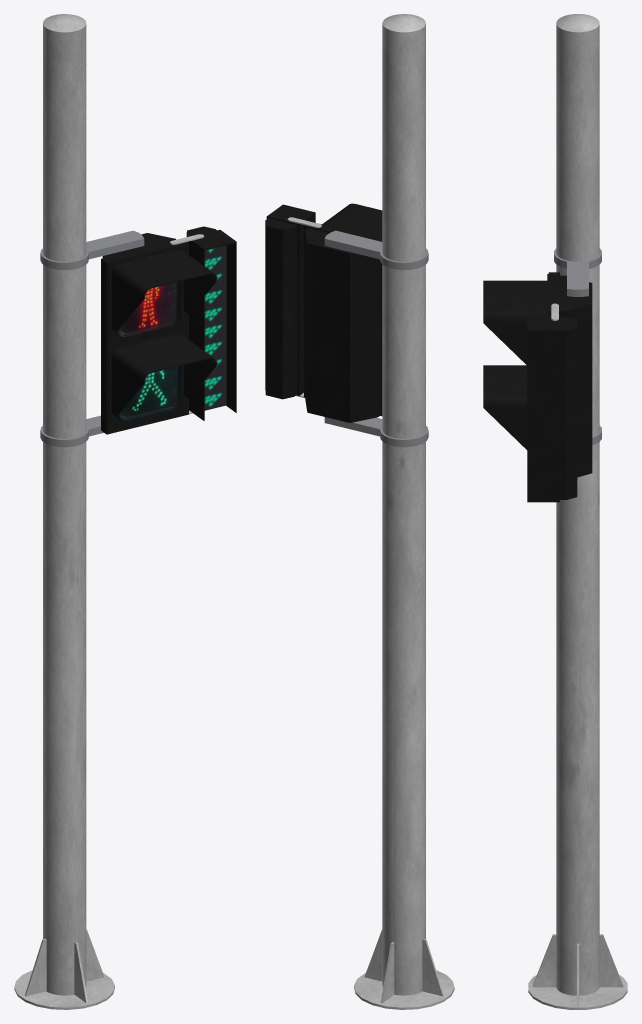
Rendered from pedestrian_traffic_light.glb.
The picture shows the model from 3 angles, left to right: view 1: azimuth 30°, elevation 25°; view 2: azimuth 150°, elevation 25°; view 3: azimuth 270°, elevation 25°; orthographic projection.
Visible parts, largest first — view 1: Cylinder005; view 2: Cylinder005; view 3: Cylinder005.
Boxes of the visible parts, <box> form: Cylinder005: <box>14,14,236,1009</box>; Cylinder005: <box>265,14,454,1009</box>; Cylinder005: <box>483,14,627,1009</box>.
Size of the model in its own units: 82.03 by 402 by 54.15.
1 material, 1 textured.
